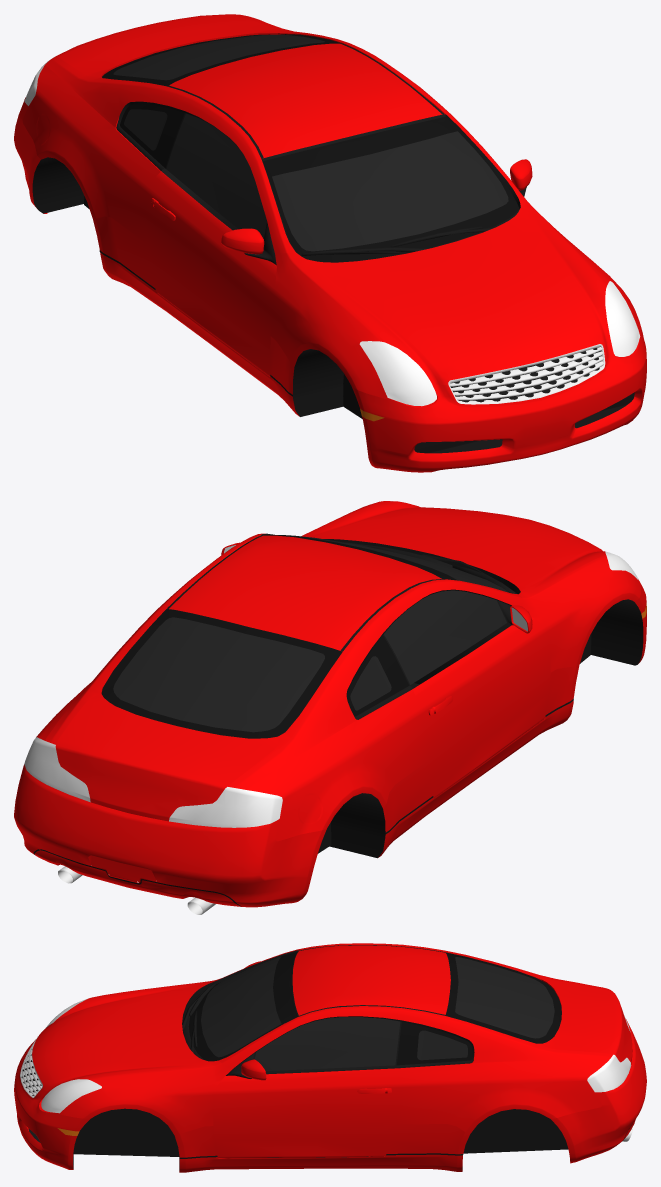
3 renders of one model, top to bottom at view 1: azimuth 30°, elevation 25°; view 2: azimuth 150°, elevation 25°; view 3: azimuth 270°, elevation 25°, orthographic. The views are drawn at different scales.
Visible parts, largest first — view 1: Combined B_RedChrome Object 0, Combined O_Glass Object 0, Combined O_Plastic Object 0, Combined O_Black Object 0, Combined O_FrontLights Object 0, Combined CHROME Object 0; view 2: Combined B_RedChrome Object 0, Combined O_Glass Object 0, Combined O_Plastic Object 0, Combined O_Black Object 0, Combined O_FrontLights Object 0, Combined CHROME Object 0; view 3: Combined B_RedChrome Object 0, Combined O_Glass Object 0, Combined O_Plastic Object 0, Combined O_Black Object 0, Combined O_FrontLights Object 0, Combined CHROME Object 0.
Part boxes in pixels (x1,y1,x2,y2): Combined B_RedChrome Object 0: (14, 14, 646, 472); Combined O_Glass Object 0: (113, 34, 508, 251); Combined O_Plastic Object 0: (32, 43, 634, 453); Combined O_Black Object 0: (102, 34, 519, 262); Combined O_FrontLights Object 0: (24, 57, 640, 406); Combined CHROME Object 0: (448, 344, 605, 404); Combined B_RedChrome Object 0: (14, 501, 646, 907); Combined O_Glass Object 0: (113, 535, 508, 732); Combined O_Plastic Object 0: (33, 533, 643, 906); Combined O_Black Object 0: (101, 535, 509, 738); Combined O_FrontLights Object 0: (24, 501, 638, 827); Combined CHROME Object 0: (58, 545, 527, 914); Combined B_RedChrome Object 0: (14, 943, 646, 1172); Combined O_Glass Object 0: (201, 957, 554, 1070); Combined O_Plastic Object 0: (21, 945, 632, 1170); Combined O_Black Object 0: (188, 952, 561, 1065); Combined O_FrontLights Object 0: (41, 991, 631, 1113); Combined CHROME Object 0: (20, 1036, 632, 1141).
Size of the model in its own units: 1.93 by 1.23 by 4.63.
